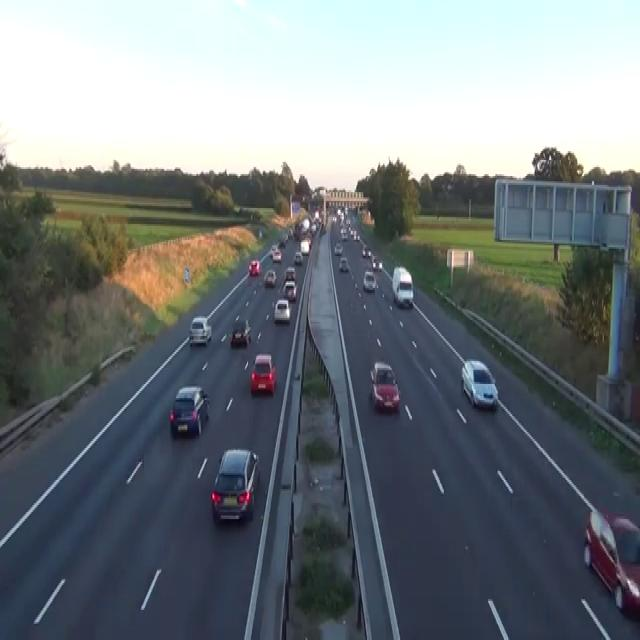Car: (583, 507, 639, 615), (210, 448, 260, 524), (169, 384, 209, 437), (461, 359, 498, 409), (370, 361, 400, 411), (250, 352, 276, 395), (391, 265, 413, 307), (188, 315, 211, 345), (230, 318, 251, 347), (273, 297, 290, 322), (632, 311, 639, 356), (362, 270, 376, 292), (283, 279, 297, 301), (248, 258, 260, 276), (264, 268, 276, 286), (338, 256, 348, 272), (284, 267, 295, 281), (371, 256, 382, 270), (300, 240, 309, 254), (272, 249, 281, 263), (269, 244, 278, 258), (362, 245, 371, 258), (293, 251, 302, 263), (334, 242, 343, 254), (340, 228, 347, 240), (277, 238, 285, 247), (371, 256, 377, 268), (320, 222, 326, 233), (311, 222, 316, 235), (287, 228, 293, 238), (362, 245, 367, 256), (258, 228, 262, 238), (378, 262, 382, 270)
